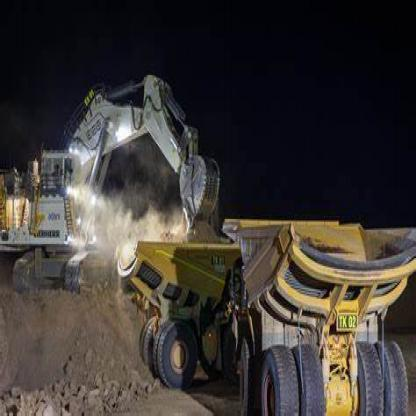dump_truck: (220, 211, 414, 415), (107, 230, 240, 391)
excavator: (3, 50, 223, 263)
